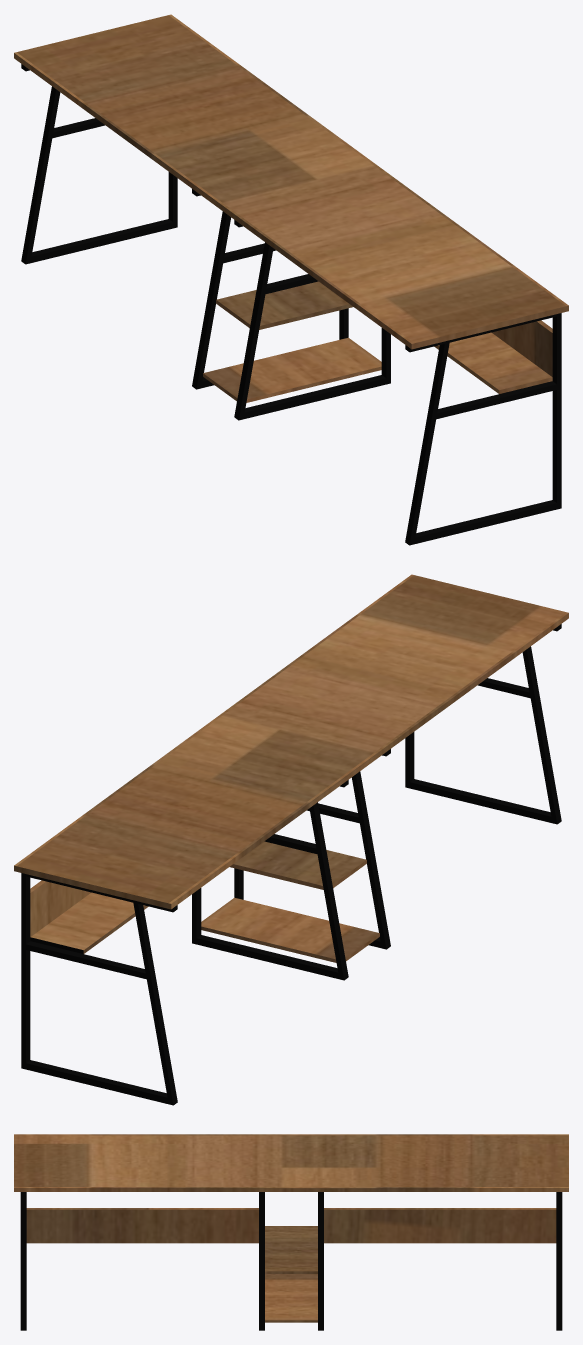
Rendered from desk.fbx.
3 views of the same model, one above another, from view 1: azimuth 30°, elevation 25°; view 2: azimuth 150°, elevation 25°; view 3: azimuth 270°, elevation 25° (orthographic). The views are drawn at different scales.
Parts seen in each view (by area): view 1: Desk; view 2: Desk; view 3: Desk.
Part boxes in pixels (x1,y1,x2,y2): Desk: (14, 14, 568, 545); Desk: (14, 574, 568, 1105); Desk: (14, 1134, 568, 1330).
Bounding box in the file's own units: 68.45 × 85.56 × 300.
2 materials, 1 textured.
